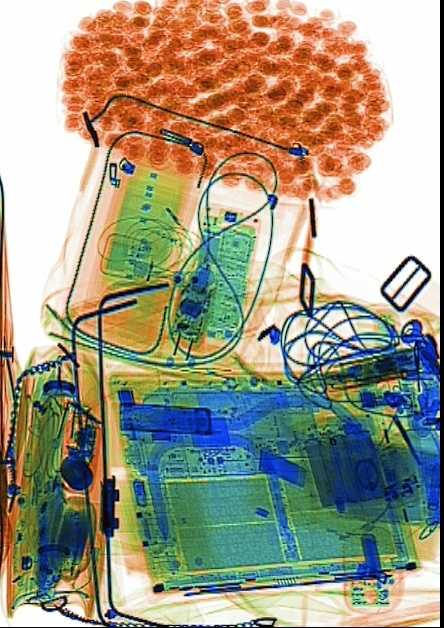powerbank: (298, 410, 391, 510)
